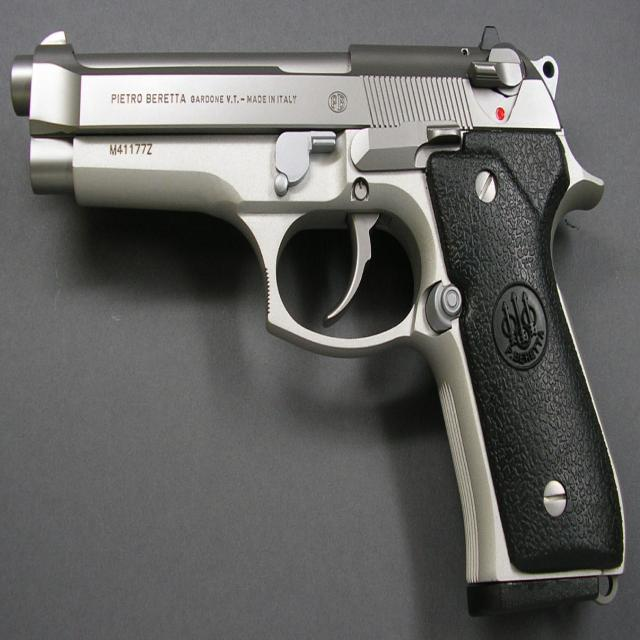Gun: (23, 31, 624, 590)
